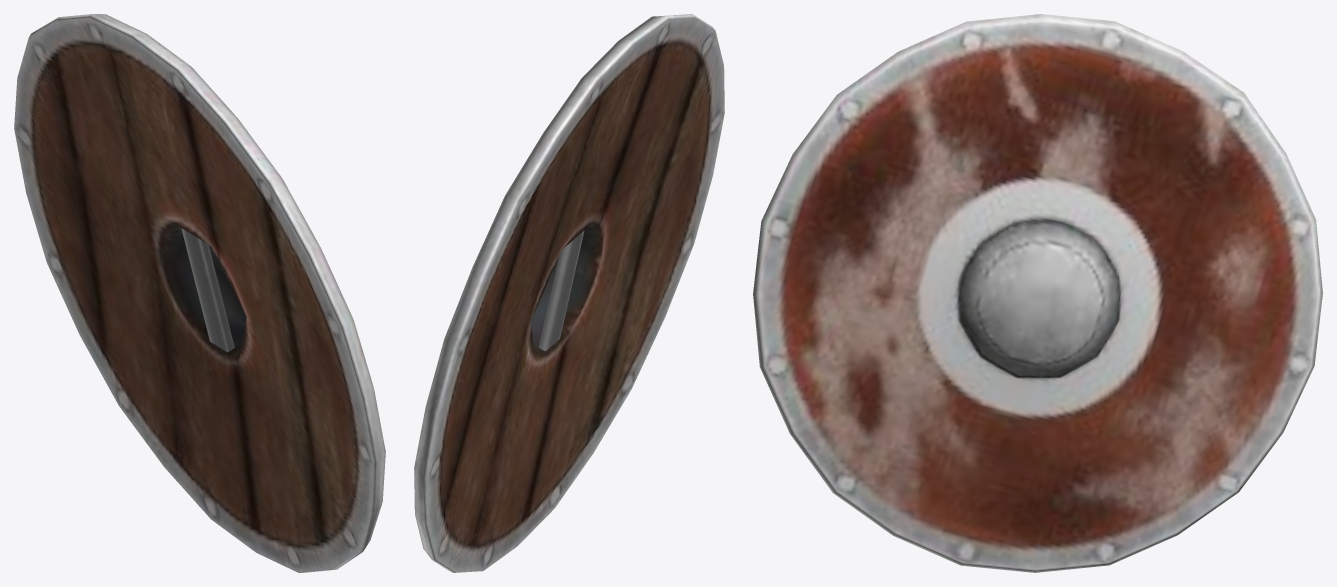
The model's file is rider-shield-slice-coppershields.glb.
3 views of the same model, side by side, from view 1: azimuth 30°, elevation 25°; view 2: azimuth 150°, elevation 25°; view 3: azimuth 270°, elevation 25° (orthographic). The views are drawn at different scales.
Bounding box in the file's own units: 0.1136 × 0.4209 × 0.4317.
1 material, 1 textured.
